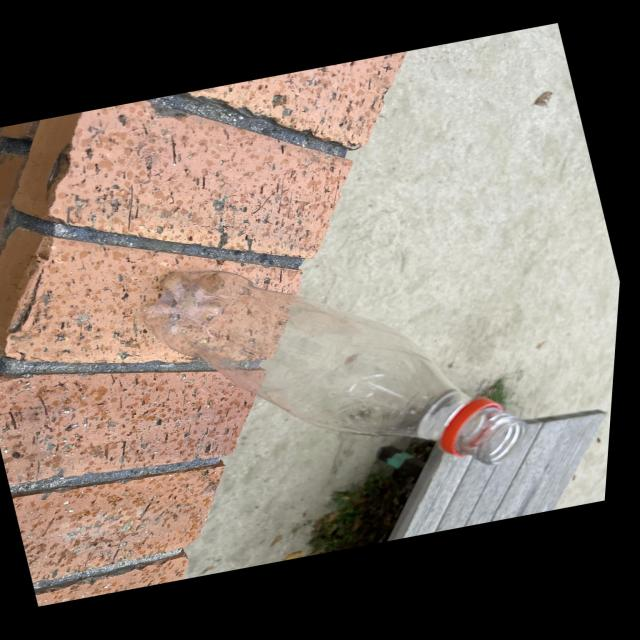empty: (143, 271, 525, 465)
